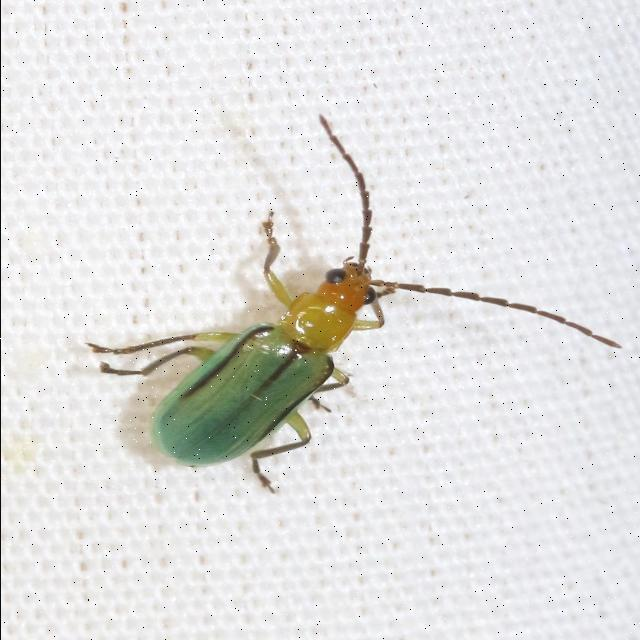gusano_gris: (86, 115, 622, 492)
